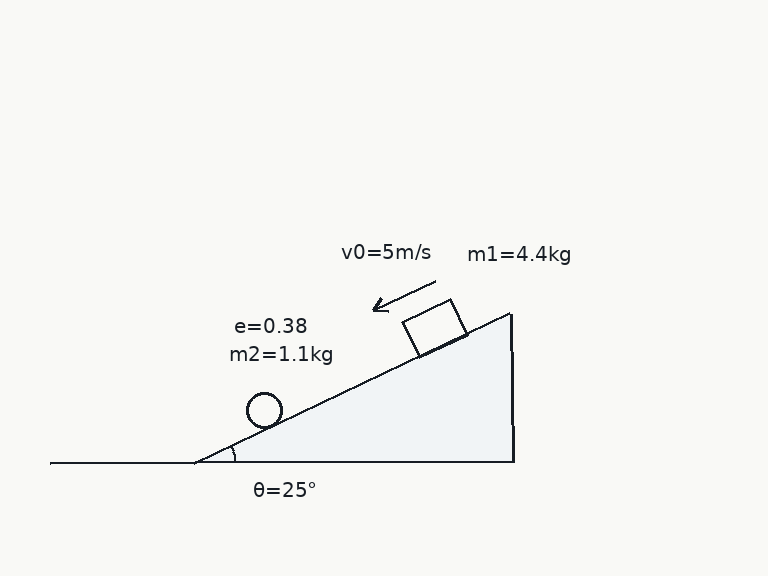ball: (244, 390, 284, 430)
block: (401, 297, 470, 359)
ramp: (193, 313, 513, 464)
